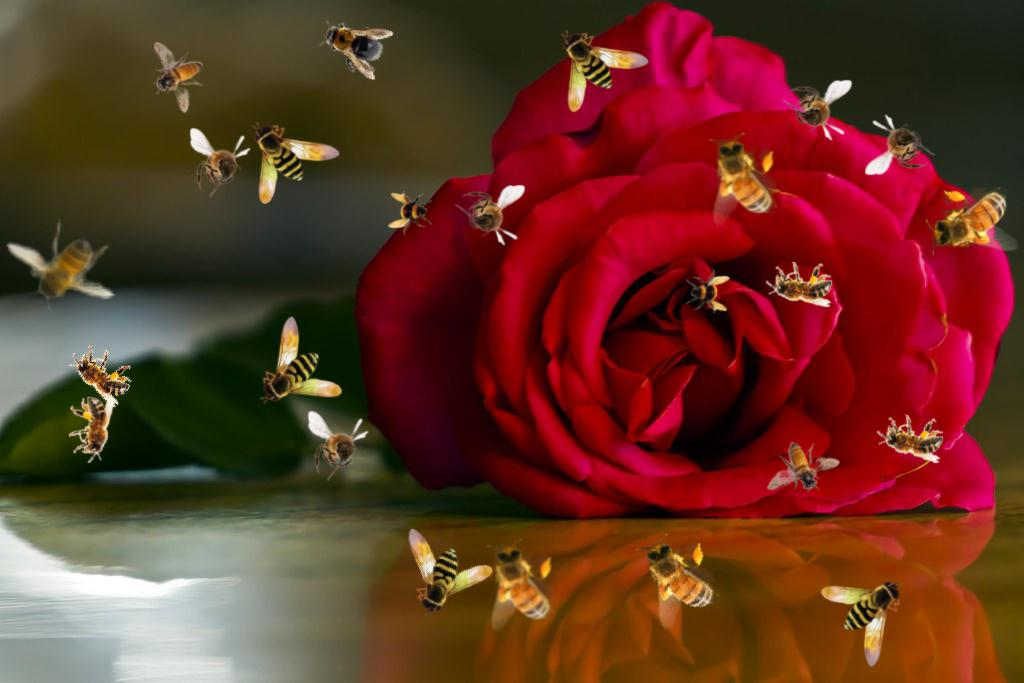Bee: (383, 503, 499, 621), (5, 219, 116, 313), (633, 524, 725, 633), (252, 122, 340, 204), (821, 579, 903, 667), (561, 30, 649, 112), (260, 316, 342, 404), (709, 133, 777, 226), (487, 539, 555, 632), (926, 187, 1019, 255), (312, 8, 394, 82), (60, 336, 140, 409), (190, 128, 251, 198), (782, 80, 852, 141), (308, 411, 369, 481), (865, 114, 935, 175), (455, 185, 525, 246), (767, 440, 841, 495), (874, 411, 946, 464), (153, 42, 203, 113), (766, 262, 832, 307), (69, 397, 114, 463), (388, 191, 432, 235), (686, 269, 730, 313)
